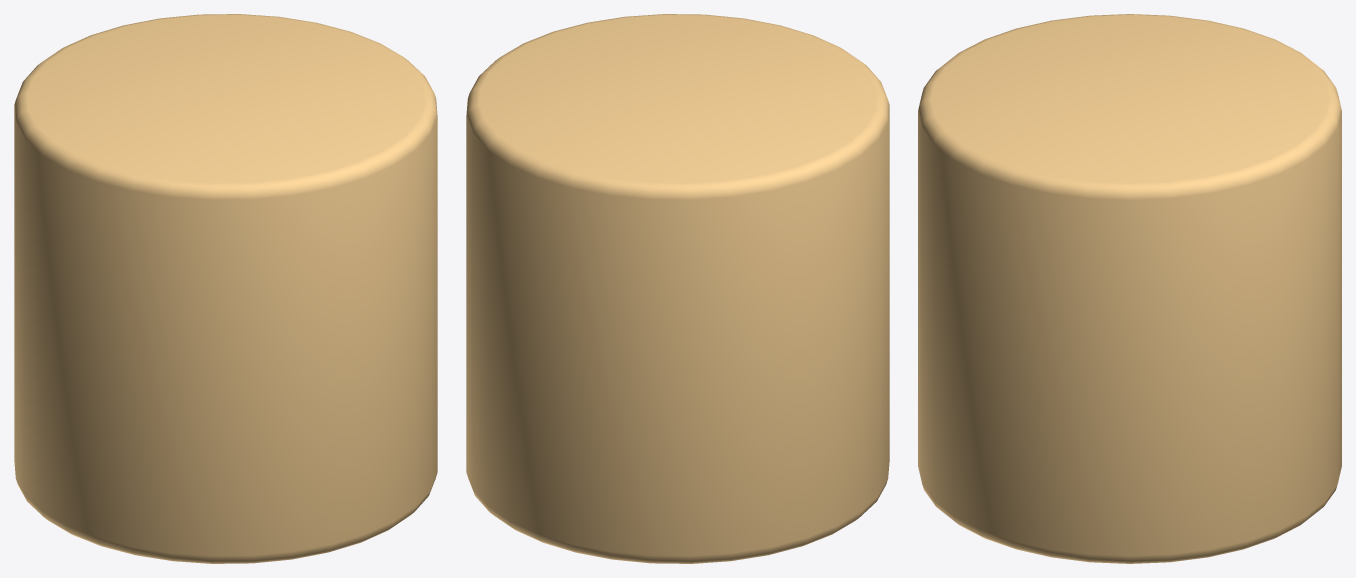
Rendered from ring.fbx.
The picture shows the model from 3 angles, left to right: view 1: azimuth 30°, elevation 25°; view 2: azimuth 150°, elevation 25°; view 3: azimuth 270°, elevation 25°; orthographic projection.
Visible parts, largest first — view 1: Cylinder.002; view 2: Cylinder.002; view 3: Cylinder.002.
Boxes of the visible parts, bbox=[...] form: Cylinder.002: bbox=[14, 14, 437, 563]; Cylinder.002: bbox=[466, 14, 889, 563]; Cylinder.002: bbox=[918, 14, 1341, 563].
Bounding box in the file's own units: 374 × 370 × 374.
